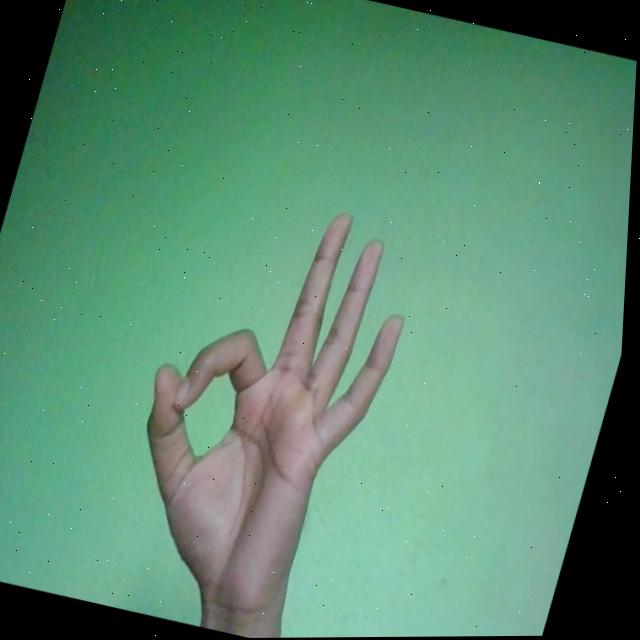Ok: (99, 179, 435, 639)
